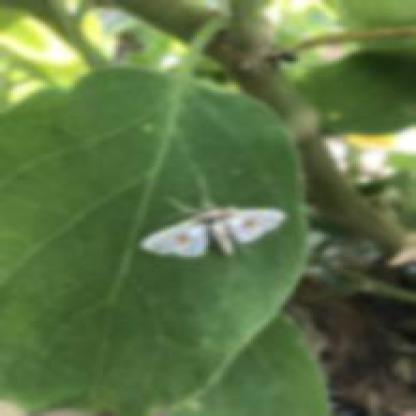leucinodes: (140, 198, 286, 260)
